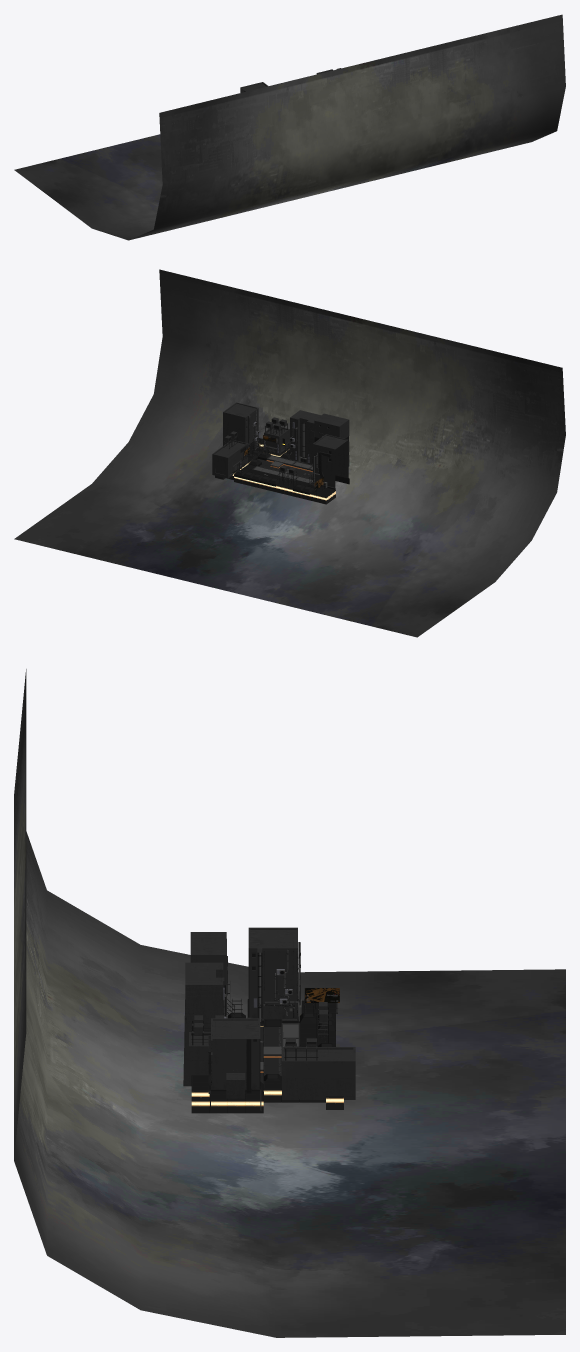
Rendered from level_main_00-01.fbx.
3 renders of one model, top to bottom at view 1: azimuth 30°, elevation 25°; view 2: azimuth 150°, elevation 25°; view 3: azimuth 270°, elevation 25°, orthographic. The views are drawn at different scales.
Visible parts, largest first — view 1: Combined_Mesh (root: scene) 5_8; view 2: Combined_Mesh (root: scene) 5_8, Combined_Mesh (root: scene) 4_10, Combined_Mesh (root: scene) 4_148, Combined_Mesh (root: scene) 4_94, Combined_Mesh (root: scene) 4_45, Combined_Mesh (root: scene) 4_51, Combined_Mesh (root: scene) 4_127; view 3: Combined_Mesh (root: scene) 5_8, Combined_Mesh (root: scene) 4_10, Combined_Mesh (root: scene) 4_148, Combined_Mesh (root: scene) 4_45, Combined_Mesh (root: scene) 4_94, Combined_Mesh (root: scene) 4_51, Combined_Mesh (root: scene) 4_127.
Boxes of the visible parts, x1,y1,x2,y2 form: Combined_Mesh (root: scene) 5_8: (14,14,565,240); Combined_Mesh (root: scene) 5_8: (14,269,565,637); Combined_Mesh (root: scene) 4_10: (312,434,349,489); Combined_Mesh (root: scene) 4_148: (223,402,258,454); Combined_Mesh (root: scene) 4_94: (290,410,320,463); Combined_Mesh (root: scene) 4_45: (212,439,247,478); Combined_Mesh (root: scene) 4_51: (314,413,349,466); Combined_Mesh (root: scene) 4_127: (264,425,289,454); Combined_Mesh (root: scene) 5_8: (14,669,565,1337); Combined_Mesh (root: scene) 4_10: (247,927,298,1023); Combined_Mesh (root: scene) 4_148: (210,1017,261,1110); Combined_Mesh (root: scene) 4_45: (282,1047,355,1099); Combined_Mesh (root: scene) 4_94: (183,962,223,1086); Combined_Mesh (root: scene) 4_51: (190,932,226,1017); Combined_Mesh (root: scene) 4_127: (189,1031,210,1084).
Bounding box in the file's own units: 4799 × 1876 × 3063.
2 materials, 2 textured.
